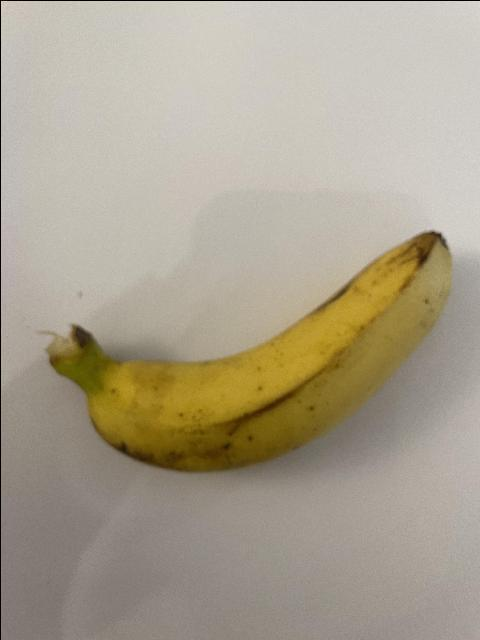banana: (43, 229, 454, 473)
